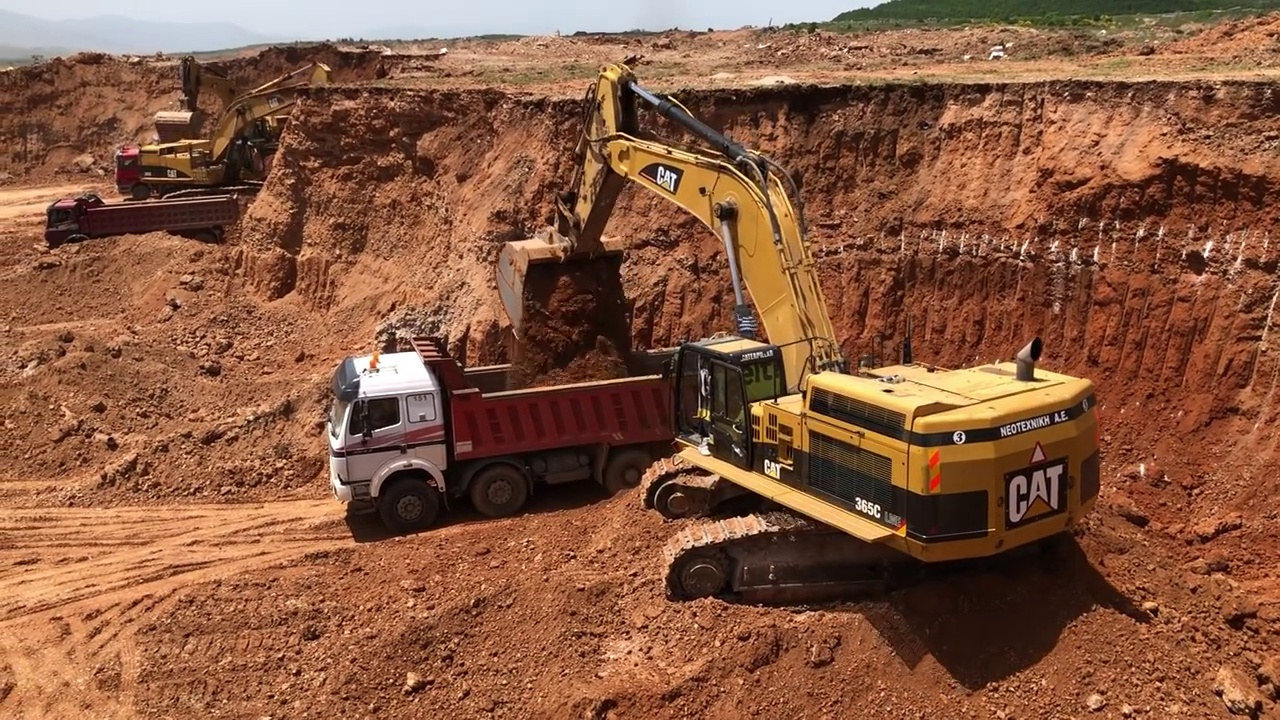excavator: (495, 66, 1100, 609), (147, 60, 324, 187), (148, 56, 269, 145)
truck: (328, 338, 764, 529), (46, 194, 241, 244), (108, 140, 267, 197)
